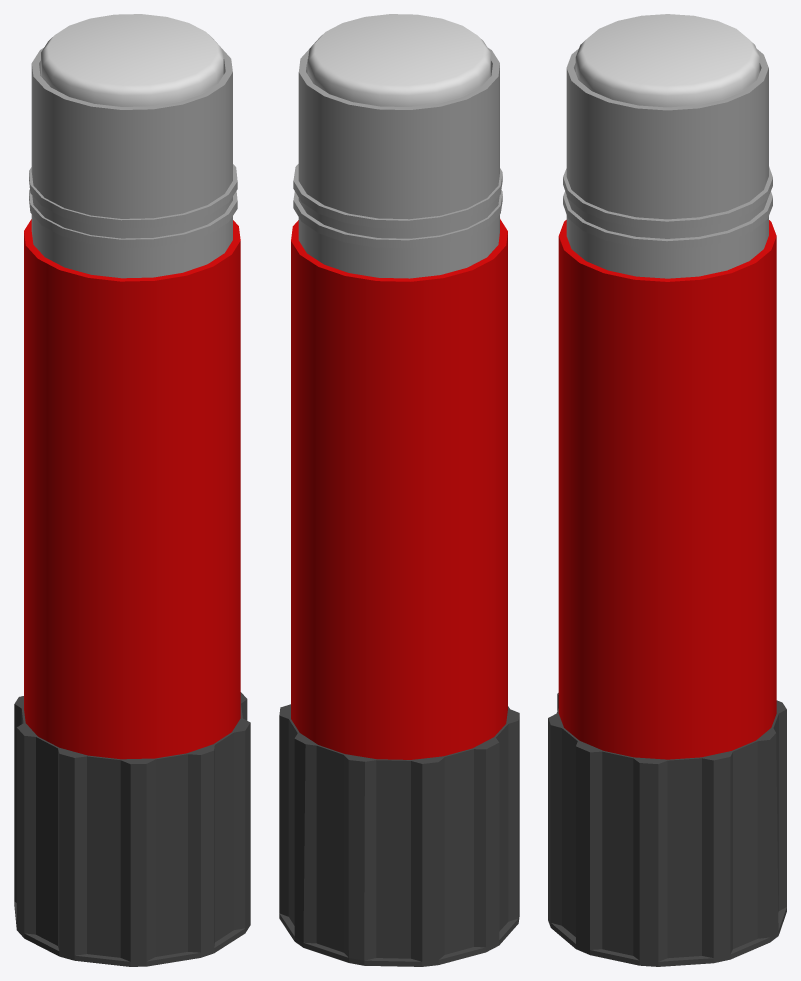
The model's file is SM_GlueTube.fbx.
3 views of the same model, side by side, from view 1: azimuth 30°, elevation 25°; view 2: azimuth 150°, elevation 25°; view 3: azimuth 270°, elevation 25° (orthographic).
Parts seen in each view (by area): view 1: Glue_Tube; view 2: Glue_Tube; view 3: Glue_Tube.
Boxes of the visible parts, x1,y1,x2,y2 form: Glue_Tube: (14,14,250,966); Glue_Tube: (279,14,519,966); Glue_Tube: (548,14,786,966).
Size of the model in its own units: 9.67 by 38.61 by 9.64.
